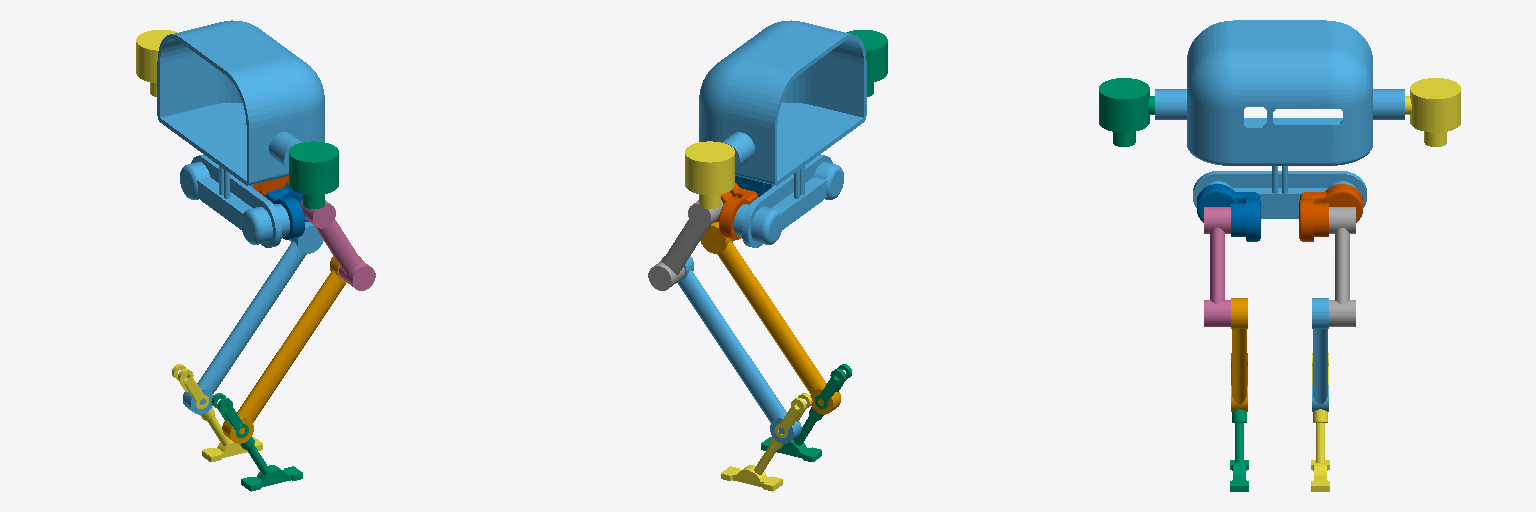
The robot description file, URDF, robot "harpy":
<?xml version="1.0"?>

<!-- units are in SI -->
<robot name="harpy">

    <!-- *************************** LINKS *************************** -->
    <!-- Base Link-->
    <link name="World"> </link>
    
    <!-- Torso -->
    <link name="Torso">
        <inertial>
            <mass value="1.0"/>
            <inertia ixx="0.01" ixy="0.0" ixz="0.0" iyy="0.01" iyz="0.0" izz="0.01"/>   
        </inertial>
        <visual>
            <geometry>
                <mesh filename="./meshes/TorsoPelvis.OBJ"/>
            </geometry>
        </visual>
    </link>

    <!-- Thrusters -->
    <link name="ThrusterRight">
        <inertial>
            <mass value="1.0"/>
            <inertia ixx="0.01" ixy="0.0" ixz="0.0" iyy="0.01" iyz="0.0" izz="0.01"/>   
        </inertial>
        <visual>
            <geometry>
                <mesh filename="./meshes/Thruster.OBJ"/>
            </geometry>
        </visual>
    </link>
    <link name="ThrusterLeft">
        <inertial>
            <mass value="1.0"/>
            <inertia ixx="0.01" ixy="0.0" ixz="0.0" iyy="0.01" iyz="0.0" izz="0.01"/>   
        </inertial>
        <visual>
            <geometry>
                <mesh filename="./meshes/Thruster.OBJ"/>
            </geometry>
        </visual>
    </link>

    <!-- Hips -->
    <link name="HipRight">
        <inertial>
            <mass value="1.0"/>
            <inertia ixx="0.01" ixy="0.0" ixz="0.0" iyy="0.01" iyz="0.0" izz="0.01"/>   
        </inertial>
        <visual>
            <geometry>
                <mesh filename="./meshes/Hip.OBJ"/>
            </geometry>
        </visual>
    </link>
    <link name="HipLeft">
        <inertial>
            <mass value="1.0"/>
            <inertia ixx="0.01" ixy="0.0" ixz="0.0" iyy="0.01" iyz="0.0" izz="0.01"/>   
        </inertial>
        <visual>
            <geometry>
                <mesh filename="./meshes/Hip.OBJ"/>
            </geometry>
        </visual>
    </link>
    
    <!-- Femur (I am Quadzilla) -->
    <link name="FemurRight">
        <inertial>
            <mass value="1.0"/>
            <inertia ixx="0.01" ixy="0.0" ixz="0.0" iyy="0.01" iyz="0.0" izz="0.01"/>   
        </inertial>
        <visual>
            <geometry>
                <mesh filename="./meshes/Femur.OBJ"/>
            </geometry>
        </visual>
    </link>
    <link name="FemurLeft">
        <inertial>
            <mass value="1.0"/>
            <inertia ixx="0.01" ixy="0.0" ixz="0.0" iyy="0.01" iyz="0.0" izz="0.01"/>   
        </inertial>
        <visual>
            <geometry>
                <mesh filename="./meshes/Femur.OBJ"/>
            </geometry>
        </visual>
    </link>

    <!-- Tibia -->
    <link name="TibiaRight">
        <inertial>
            <mass value="1.0"/>
            <inertia ixx="0.01" ixy="0.0" ixz="0.0" iyy="0.01" iyz="0.0" izz="0.01"/>   
        </inertial>
        <visual>
            <geometry>
                
                <mesh filename="./meshes/Tibia.OBJ"/>
            </geometry>
        </visual>
    </link>
    <link name="TibiaLeft">
       <inertial>
            <mass value="1.0"/>
            <inertia ixx="0.01" ixy="0.0" ixz="0.0" iyy="0.01" iyz="0.0" izz="0.01"/>   
        </inertial>
        <visual>
            <geometry>
                <mesh filename="./meshes/Tibia.OBJ"/>
            </geometry>
        </visual>
    </link>

    <!-- Feet -->
    <link name="FootRight">
        <inertial>
            <mass value="1.0"/>
            <inertia ixx="0.01" ixy="0.0" ixz="0.0" iyy="0.01" iyz="0.0" izz="0.01"/>   
        </inertial>
        <visual>
            <geometry>
                
                <mesh filename="./meshes/Foot.OBJ"/>
            </geometry>
        </visual>
    </link>
    <link name="FootLeft">
        <inertial>
            <mass value="1.0"/>
            <inertia ixx="0.01" ixy="0.0" ixz="0.0" iyy="0.01" iyz="0.0" izz="0.01"/>   
        </inertial>
        <visual>
            <geometry>
                <mesh filename="./meshes/Foot.OBJ"/>
            </geometry>
        </visual>
    </link>

    <!-- *************************** JOINTS *************************** -->
    <!-- Torso to Base -->
    <joint name="Torso_Base" type="floating">
        <parent link="World"/>
        <child link="Torso"/>
        <origin xyz="0.0 0.0 0.5" rpy="0.0 0.0 0.0"/>
    </joint>

    <!-- Thrusters to Torso -->
    <joint name="Torso_ThrusterRight" type="continuous">
        <parent link="Torso"/>
        <child link="ThrusterRight"/>
        <axis xyz="0 1 0"/>
        <origin xyz="-0.028 -0.2 0.16" rpy="0.0 0.0 0.0"/>
    </joint>
    <joint name="Torso_ThrusterLeft" type="continuous">
        <parent link="Torso"/>
        <child link="ThrusterLeft"/>
        <axis xyz="0 1 0"/>
        <origin xyz="-0.028 0.2 0.16" rpy="0.0 0.0 3.1416"/>
    </joint>

    <!-- Hips to Torso -->
    <joint name="Torso_HipRight" type="continuous">
        <parent link="Torso"/>
        <child link="HipRight"/>
        <axis xyz="1 0 0"/>
        <origin xyz="0.0 -0.1 0.0" rpy="0.0 0.0 0.0"/>
    </joint>
    <joint name="Torso_HipLeft" type="continuous">
        <parent link="Torso"/>
        <child link="HipLeft"/>
        <axis xyz="1 0 0"/>
        <origin xyz="0.0 0.1 0.0" rpy="3.1416 0.0 0.0"/>
    </joint>

    <!-- Femur to Hips -->
    <joint name="HipRight_FemurRight" type="continuous">
        <parent link="HipRight"/>
        <child link="FemurRight"/>
        <axis xyz="0 1 0"/>
        <origin xyz="0.06549 0.0 0.0" rpy="0.0 0.0 0.0"/>
    </joint>
    <joint name="HipLeft_FemurLeft" type="continuous">
        <parent link="HipLeft"/>
        <child link="FemurLeft"/>
        <axis xyz="0 1 0"/>
        <origin xyz="0.06549 0.0 0.0" rpy="-3.14159 0.0 0.0"/>
    </joint>

    <!-- Tibia to Femur -->
    <joint name="FemurRight_TibiaRight" type="continuous">
        <parent link="FemurRight"/>
        <child link="TibiaRight"/>
        <axis xyz="0 1 0"/>
        <origin xyz="0.07513 0.035 -0.13013" rpy="0.0 0.0 0.0"/>
    </joint>
    <joint name="FemurLeft_TibiaLeft" type="continuous">
        <parent link="FemurLeft"/>
        <child link="TibiaLeft"/>
        <axis xyz="0 1 0"/>
        <origin xyz="0.07513 -0.035 -0.13013" rpy="0.0 0.0 0.0"/>
    </joint>

    <!-- Feet to Tibia -->
    <joint name="TibiaRight_FootRight" type="continuous">
        <parent link="TibiaRight"/>
        <child link="FootRight"/>
        <axis xyz="0 1 0"/>
        <origin xyz="-0.20512 0.0 -0.24561" rpy="0.0 0.0 0.0"/>
    </joint>
    <joint name="TibiaLeft_FootLeft" type="continuous">
        <parent link="TibiaLeft"/>
        <child link="FootLeft"/>
        <axis xyz="0 1 0"/>
        <origin xyz="-0.20512 0.0 -0.24561" rpy="0.0 0.0 0.0"/>
    </joint>

</robot>

--- Facts derived from the render (not from the file) ---
The picture shows the robot from 3 angles, left to right: view 1: azimuth 30°, elevation 25°; view 2: azimuth 150°, elevation 25°; view 3: azimuth 270°, elevation 25°; orthographic projection.
Robot: harpy — 12 links, 11 joints (10 continuous, 1 floating); root link World; default pose: every joint at zero.
Visible links, largest first — view 1: Torso, TibiaLeft, TibiaRight, ThrusterRight, FemurRight, FootRight, FootLeft, ThrusterLeft, HipRight; view 2: Torso, TibiaRight, TibiaLeft, ThrusterLeft, FemurLeft, FootLeft, FootRight, ThrusterRight, HipLeft; view 3: Torso, ThrusterRight, ThrusterLeft, FemurRight, FemurLeft, HipLeft, HipRight, TibiaRight, TibiaLeft, FootRight, FootLeft.
Boxes of the visible links, x1,y1,x2,y2 form: Torso: [157, 20, 324, 247]; TibiaLeft: [183, 222, 323, 414]; TibiaRight: [222, 256, 362, 443]; ThrusterRight: [289, 141, 338, 208]; FemurRight: [300, 200, 375, 290]; FootRight: [211, 393, 302, 491]; FootLeft: [172, 364, 262, 461]; ThrusterLeft: [136, 30, 177, 96]; HipRight: [266, 183, 308, 239]; Torso: [699, 20, 866, 247]; TibiaRight: [700, 222, 840, 414]; TibiaLeft: [661, 256, 801, 443]; ThrusterLeft: [685, 141, 734, 208]; FemurLeft: [648, 200, 723, 290]; FootLeft: [721, 393, 812, 491]; FootRight: [761, 364, 851, 461]; ThrusterRight: [846, 30, 887, 96]; HipLeft: [715, 183, 757, 239]; Torso: [1155, 20, 1404, 218]; ThrusterRight: [1099, 78, 1154, 146]; ThrusterLeft: [1405, 78, 1460, 146]; FemurRight: [1204, 207, 1230, 326]; FemurLeft: [1329, 207, 1355, 326]; HipLeft: [1299, 184, 1362, 241]; HipRight: [1197, 184, 1260, 241]; TibiaRight: [1231, 298, 1247, 411]; TibiaLeft: [1312, 298, 1328, 411]; FootRight: [1230, 353, 1248, 491]; FootLeft: [1311, 353, 1329, 491].
Size in the robot's own frame: 0.2726 by 0.582 by 0.7675 metres.
11 mesh visuals loaded from 6 distinct referenced files (6 OBJ).
